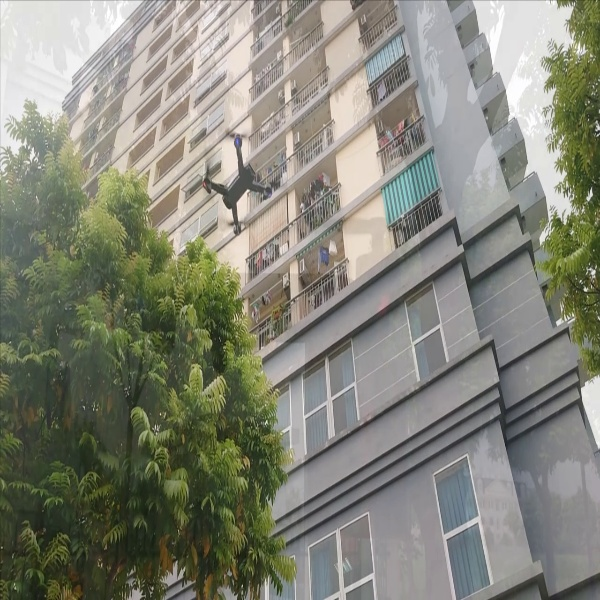drone: (191, 124, 283, 238)
